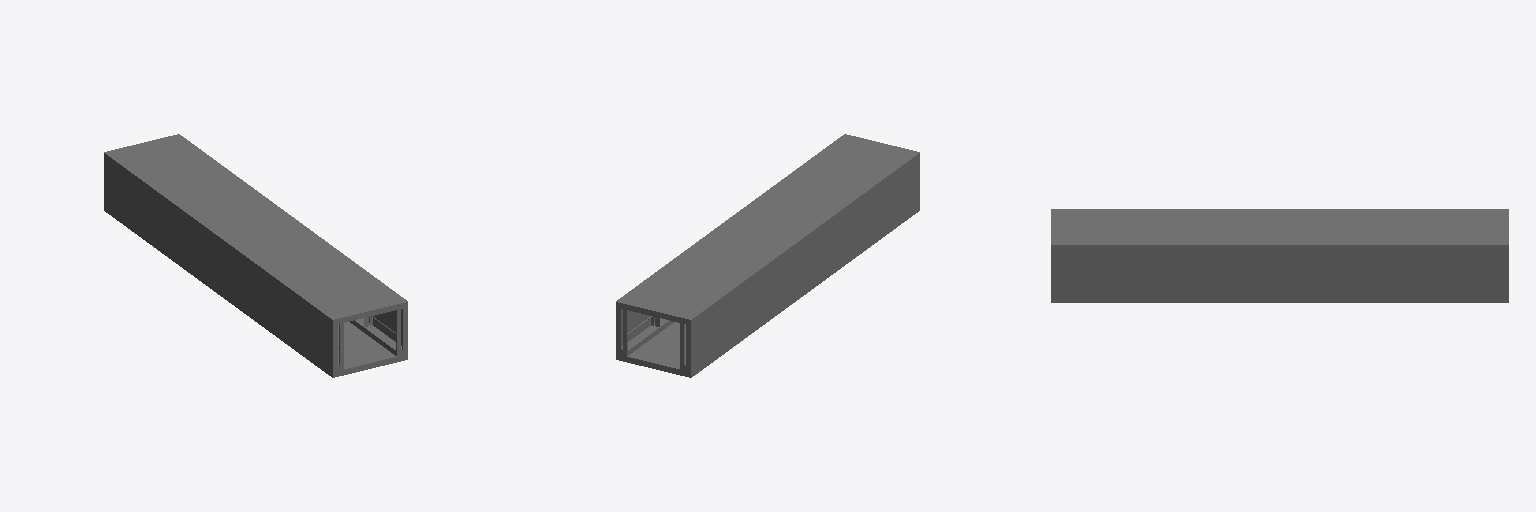
Rendered from skybridge2.obj.
The picture shows the model from 3 angles: view 1: azimuth 30°, elevation 25°; view 2: azimuth 150°, elevation 25°; view 3: azimuth 270°, elevation 25°; orthographic projection.
Visible parts, largest first — view 1: Skybridge polySurface2 polySurface4 polySurface7 polySurface10 p, Skybridge polySurface2 polySurface4 polySurface7 polySurface11 p, Skybridge polySurface3 polySurface2; view 2: Skybridge polySurface2 polySurface4 polySurface7 polySurface10 p, Skybridge polySurface2 polySurface4 polySurface7 polySurface11 p, Skybridge polySurface3 polySurface2; view 3: Skybridge polySurface2 polySurface4 polySurface7 polySurface10 p.
Part boxes in pixels (left/top/right/bottom): Skybridge polySurface2 polySurface4 polySurface7 polySurface10 p: left=104, top=134, right=407, bottom=377; Skybridge polySurface2 polySurface4 polySurface7 polySurface11 p: left=104, top=159, right=331, bottom=365; Skybridge polySurface3 polySurface2: left=338, top=322, right=396, bottom=362; Skybridge polySurface2 polySurface4 polySurface7 polySurface10 p: left=616, top=134, right=919, bottom=377; Skybridge polySurface2 polySurface4 polySurface7 polySurface11 p: left=692, top=159, right=919, bottom=365; Skybridge polySurface3 polySurface2: left=627, top=322, right=685, bottom=362; Skybridge polySurface2 polySurface4 polySurface7 polySurface10 p: left=1051, top=209, right=1508, bottom=302.
Size of the model in its own units: 410 by 301 by 2151.